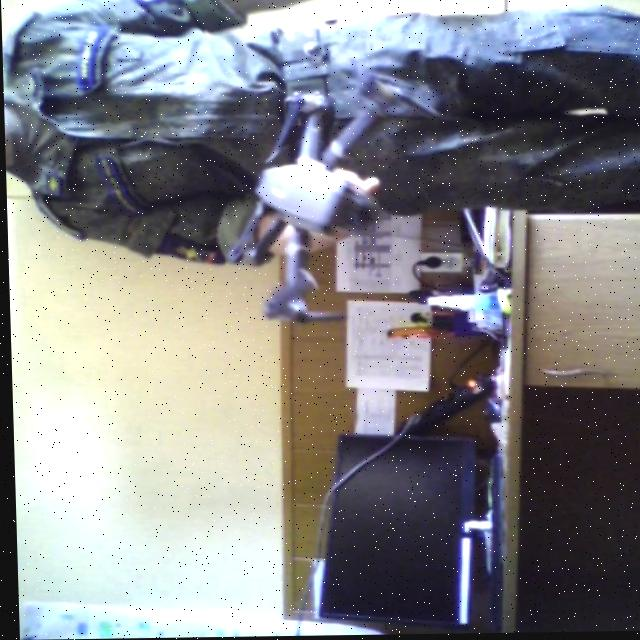drone: (194, 66, 443, 326)
